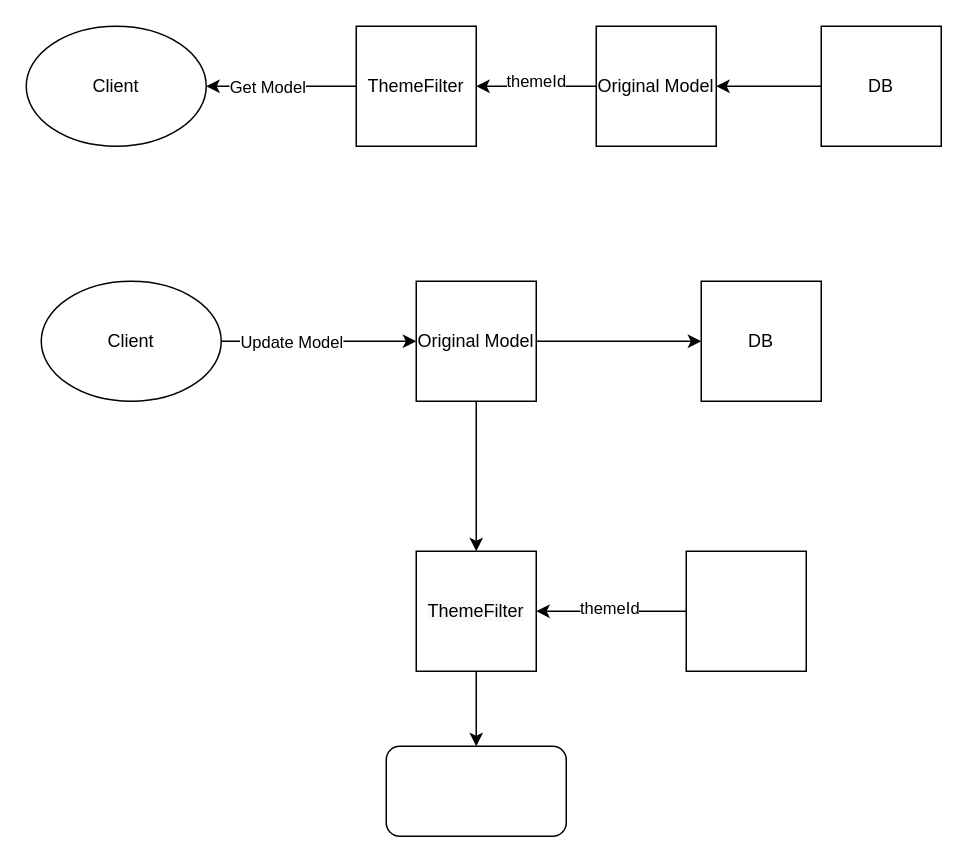
This 968x863 diagram has some shape labels left out. Here are the shapes that lost their labels. From the top down, the box of each, then its label:
(685, 550, 806, 671): QipuId/ThemeId Config
(385, 745, 566, 836): Model Update Message
